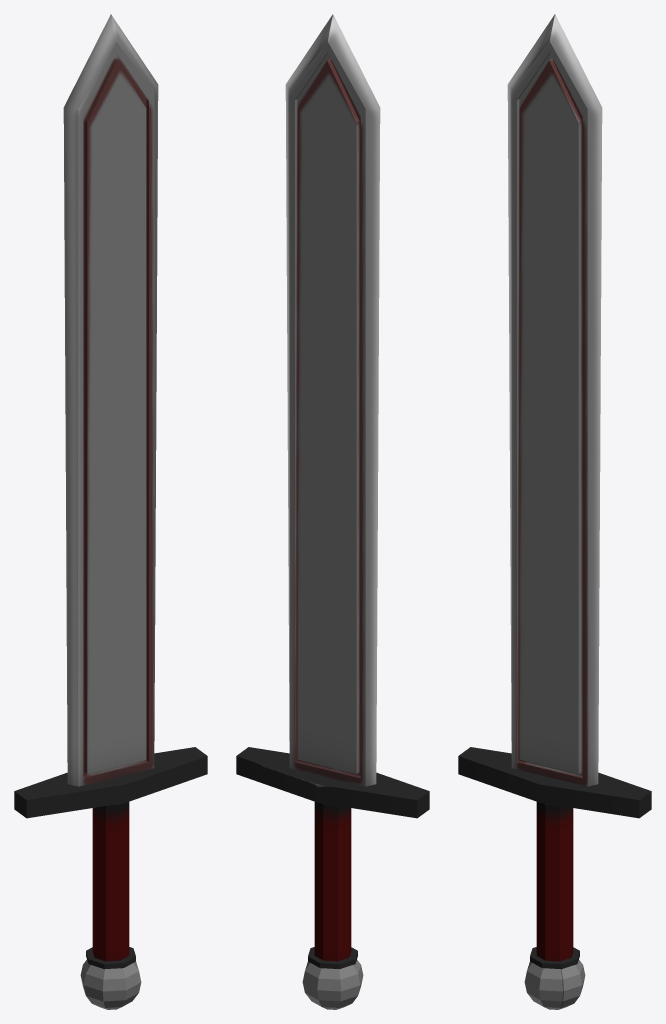
File: SM_sword_WEAPON.fbx
3 views of the same model, side by side, from view 1: azimuth 30°, elevation 25°; view 2: azimuth 150°, elevation 25°; view 3: azimuth 330°, elevation 25° (orthographic).
Visible parts, largest first — view 1: SM_sword; view 2: SM_sword; view 3: SM_sword.
Part boxes in pixels (x1,y1,x2,y2): SM_sword: [14, 14, 207, 1009]; SM_sword: [236, 14, 429, 1009]; SM_sword: [458, 14, 651, 1009].
Size of the model in its own units: 0.9197 by 4.82 by 0.2768.
